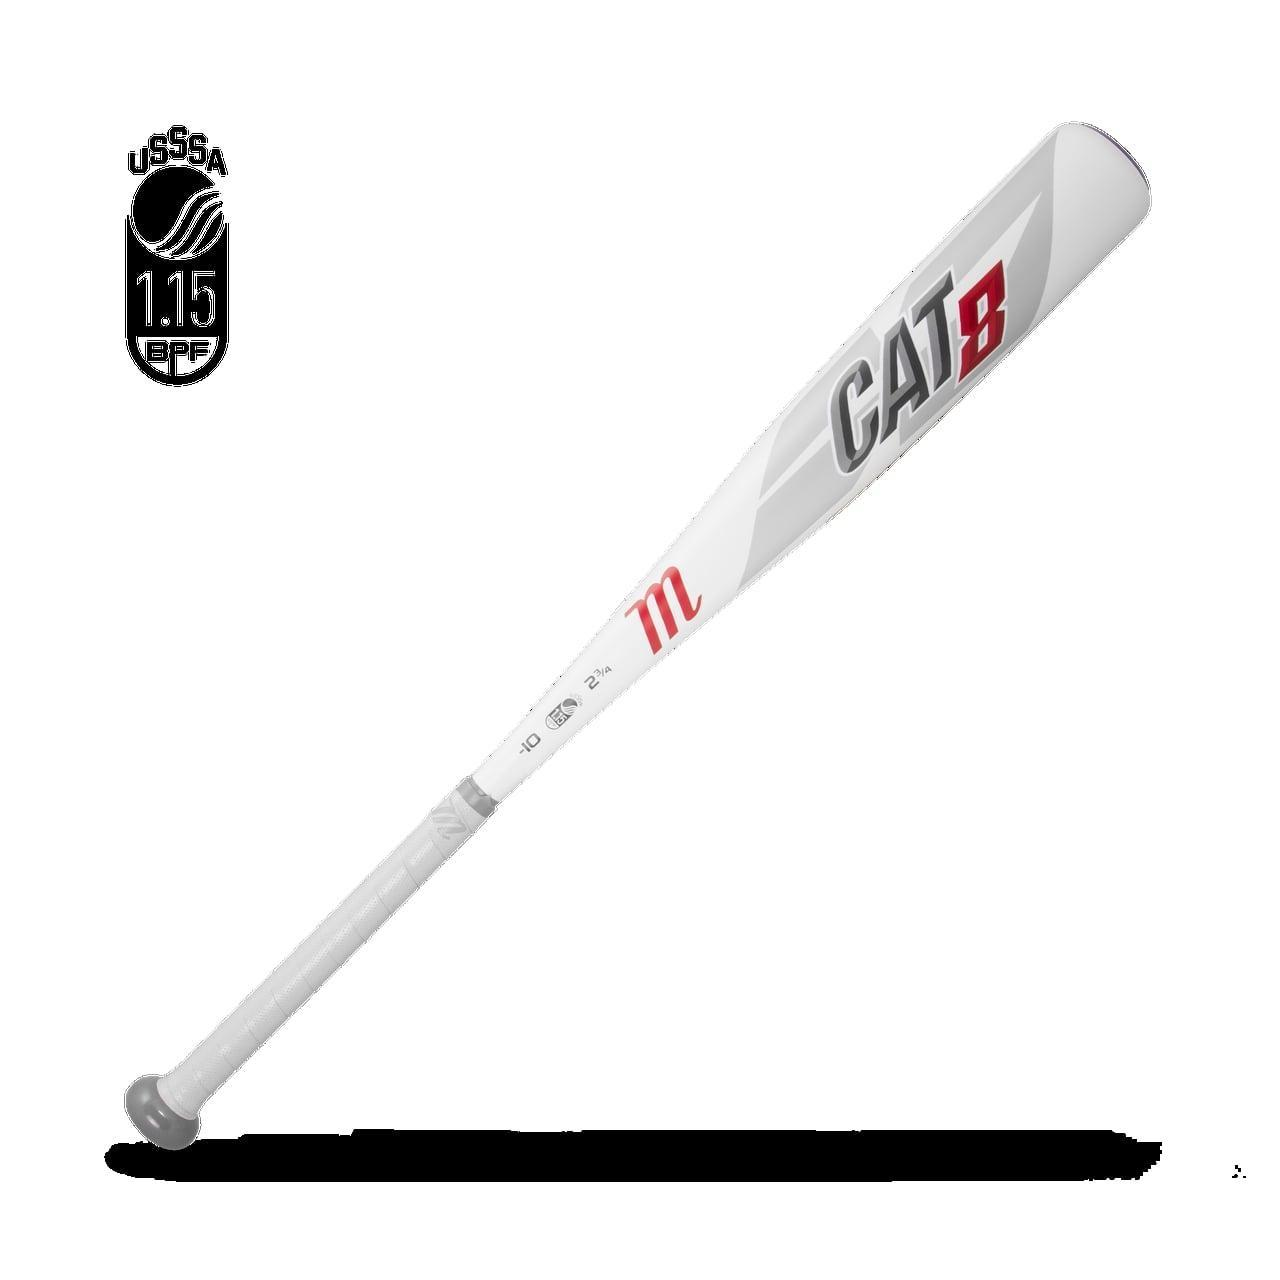Baseball-Bat: (370, 70, 1210, 998)
